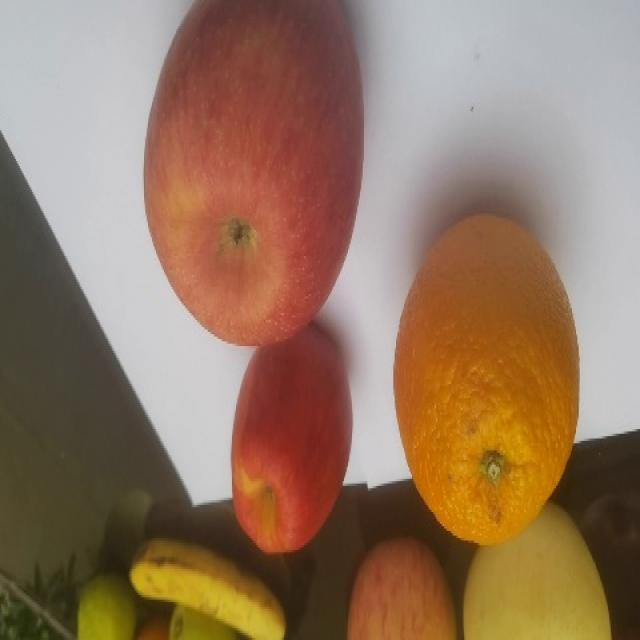Apple: (143, 0, 370, 353), (222, 322, 356, 556), (345, 533, 455, 640)
Banana: (126, 530, 293, 640)
Orange: (390, 210, 586, 546)
